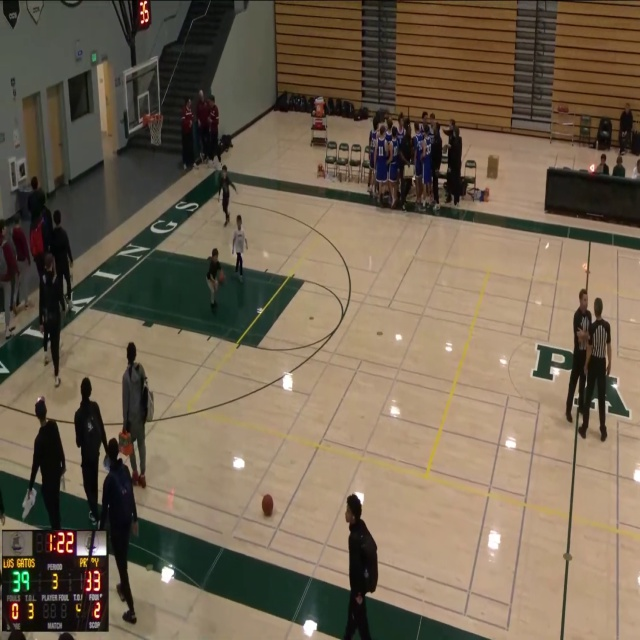Basketball: (261, 494, 273, 516)
